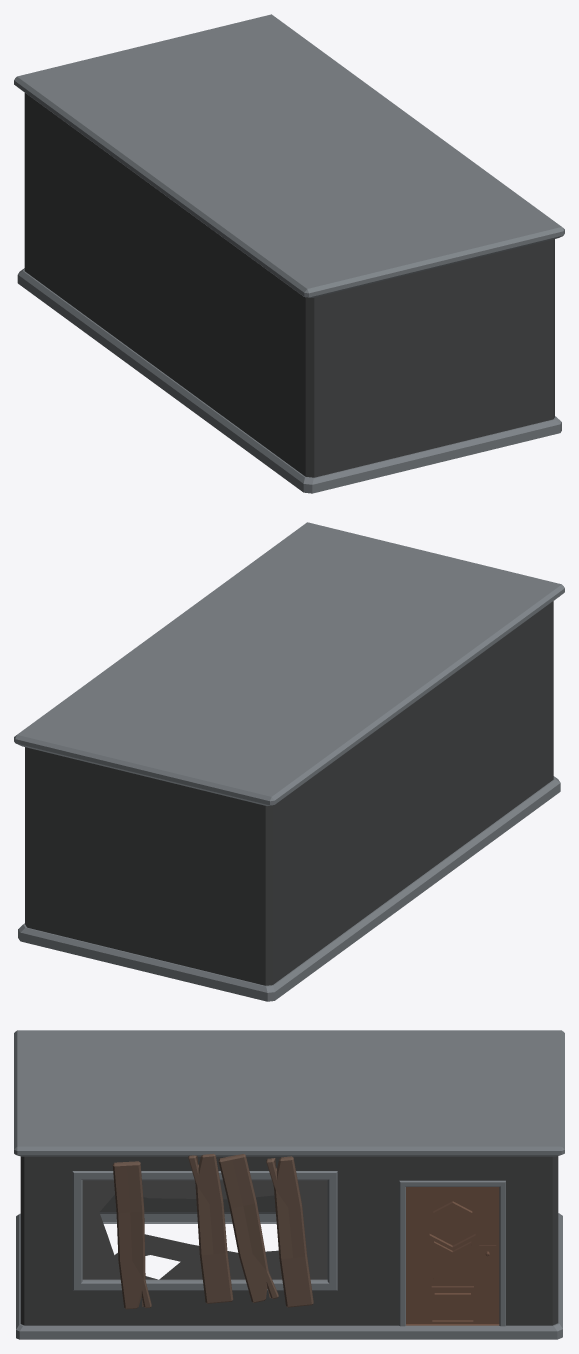
File: Building_3.fbx
3 renders of one model, top to bottom at view 1: azimuth 30°, elevation 25°; view 2: azimuth 150°, elevation 25°; view 3: azimuth 270°, elevation 25°, orthographic. The views are drawn at different scales.
Parts seen in each view (by area): view 1: building_021.001; view 2: building_021.001; view 3: building_021.001, Building_2.000.
Boxes of the visible parts, left/top/right/bottom form: building_021.001: left=14, top=14, right=564, bottom=493; building_021.001: left=14, top=522, right=564, bottom=1001; building_021.001: left=14, top=1030, right=564, bottom=1339; Building_2.000: left=112, top=1153, right=313, bottom=1309.
Bounding box in the file's own units: 428 × 316 × 820.
